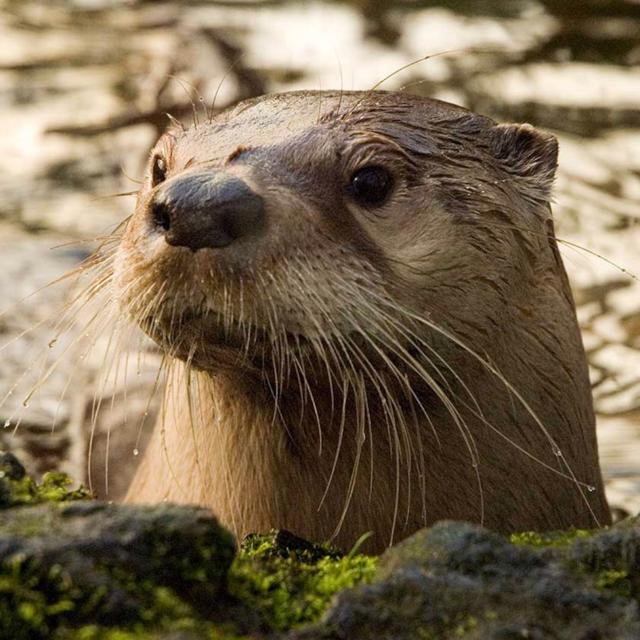Otter: (127, 89, 606, 532)
